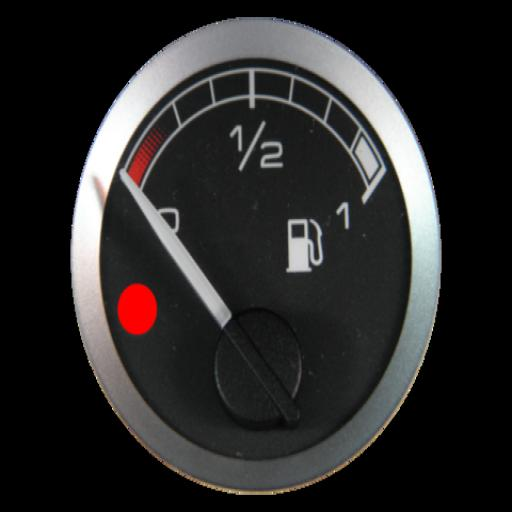fuel_icon: (278, 211, 328, 277)
full: (334, 195, 362, 240)
guage_area: (68, 16, 442, 497)
needle_center: (202, 296, 328, 452)
needle_tip: (108, 163, 150, 210)
